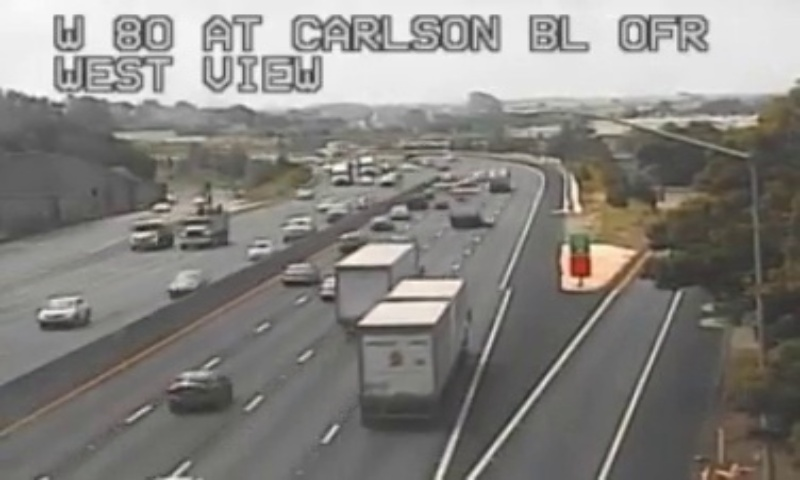car: (166, 371, 230, 406), (283, 263, 315, 283)
truck: (355, 277, 468, 422), (334, 241, 419, 330)
